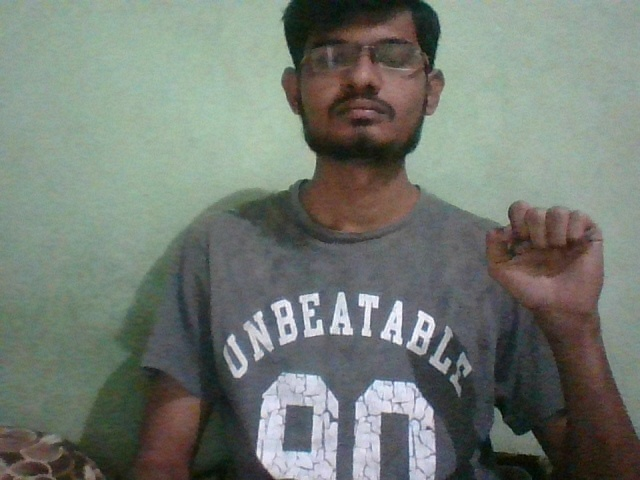yes: (483, 178, 629, 342)
